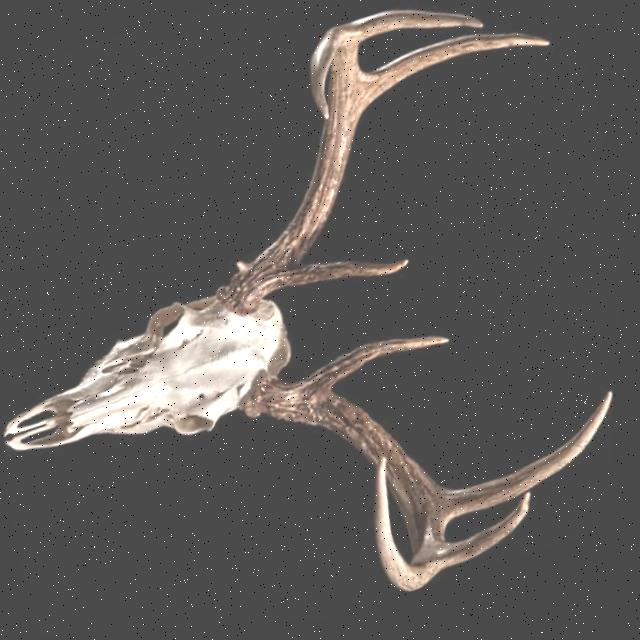L-G1: (301, 339, 454, 401)
L-G2: (436, 397, 618, 540)
L-G3: (442, 496, 537, 574)
R-F: (219, 29, 359, 320)
R-G1: (272, 259, 412, 296)
R-G2: (358, 37, 551, 124)
R-G3: (342, 13, 483, 53)
